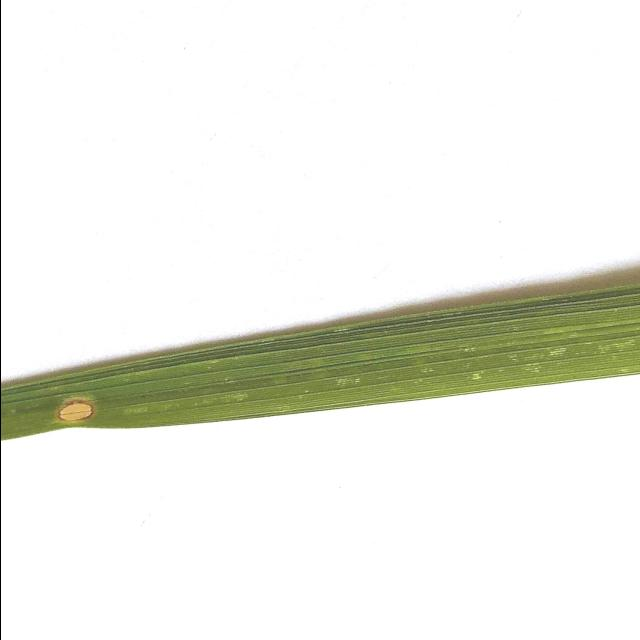Leaf_Blast: (38, 395, 96, 439)
